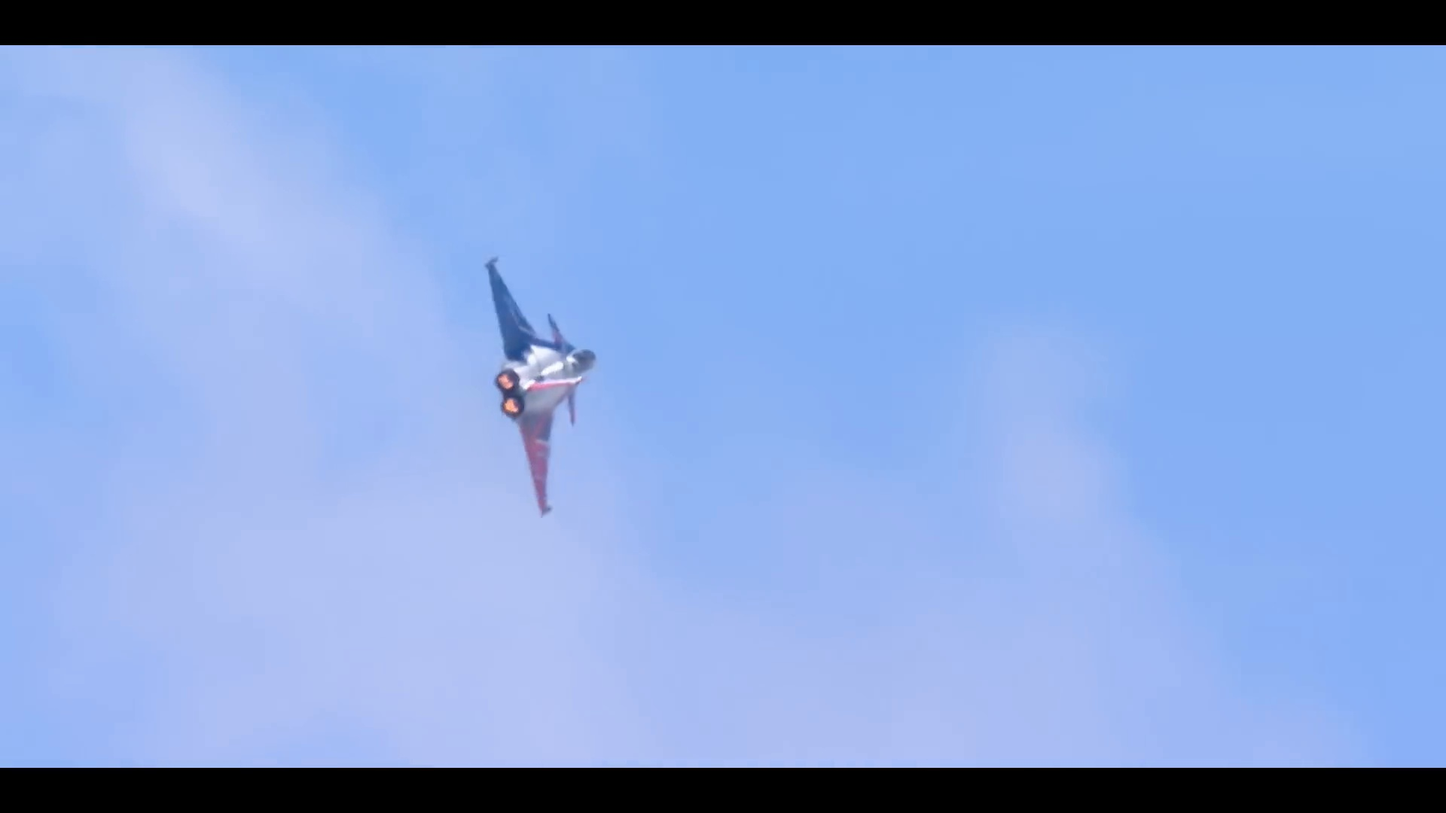Rafale: (467, 249, 610, 523)
